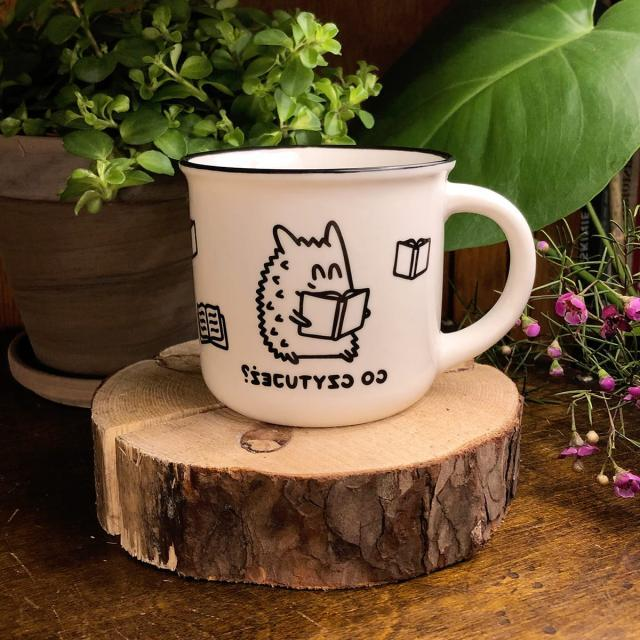Coffee Mug: (182, 145, 537, 426)
